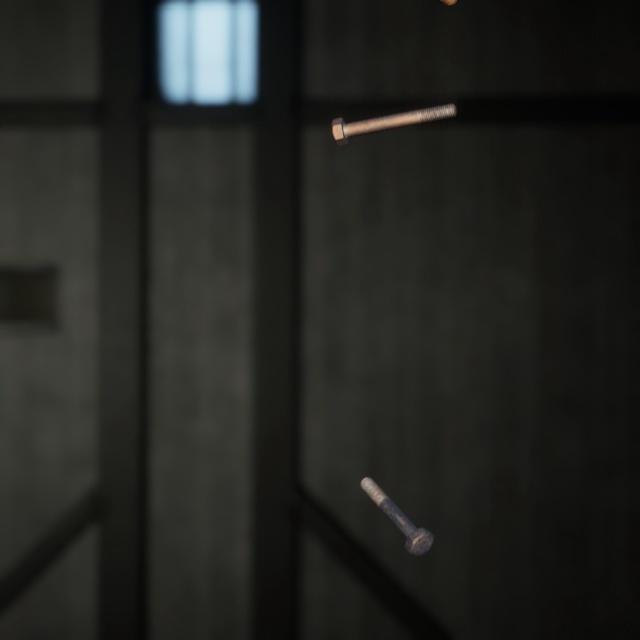bolt: (355, 452, 438, 539), (327, 87, 461, 139)
